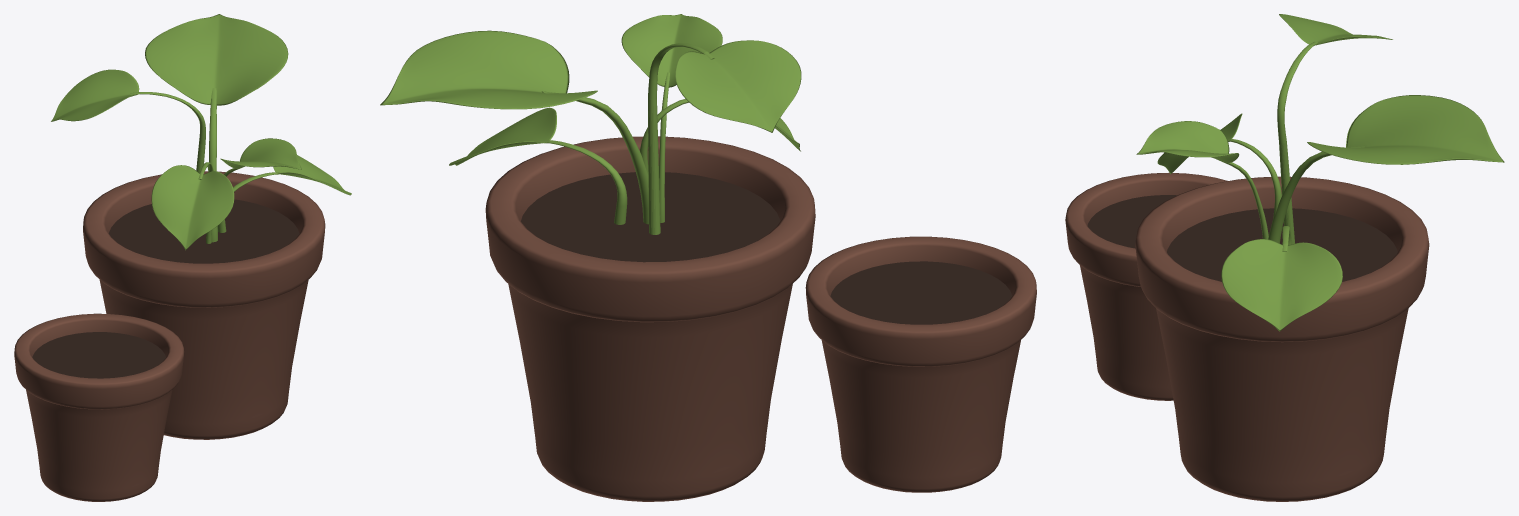
Rendered from plants_emptyPot.fbx.
3 views of the same model, side by side, from view 1: azimuth 30°, elevation 25°; view 2: azimuth 150°, elevation 25°; view 3: azimuth 270°, elevation 25° (orthographic). The views are drawn at different scales.
Visible parts, largest first — view 1: polySurface33; view 2: polySurface33; view 3: polySurface33.
Boxes of the visible parts, x1,y1,x2,y2 form: polySurface33: (14, 14, 351, 501); polySurface33: (380, 14, 1036, 501); polySurface33: (1065, 14, 1504, 501).
Size of the model in its own units: 0.4369 by 0.3709 by 0.3713.
